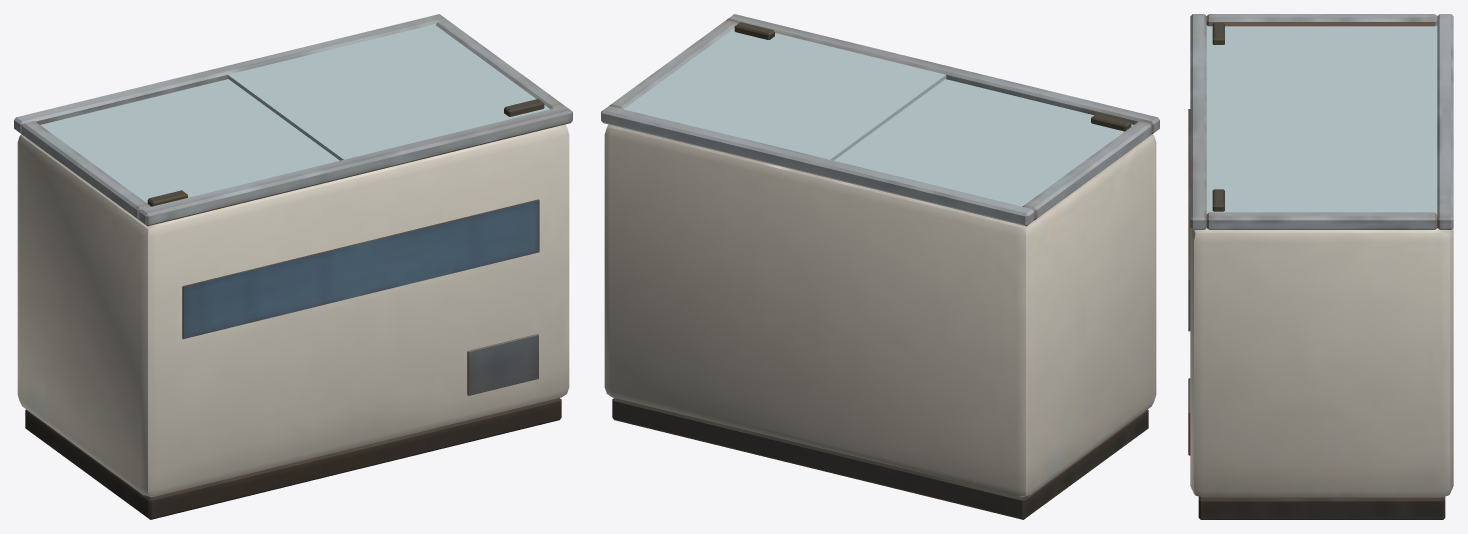
Rendered from freezer_chest.glb.
The picture shows the model from 3 angles, left to right: view 1: azimuth 30°, elevation 25°; view 2: azimuth 150°, elevation 25°; view 3: azimuth 270°, elevation 25°; orthographic projection.
Parts seen in each view (by area): view 1: freezer_chest; view 2: freezer_chest; view 3: freezer_chest.
Part boxes in pixels (x1,y1,x2,y2): freezer_chest: [14, 14, 572, 519]; freezer_chest: [601, 14, 1159, 519]; freezer_chest: [1188, 14, 1453, 519].
Bounding box in the file's own units: 1.2 × 0.846 × 0.655.
6 materials, 5 textured.
